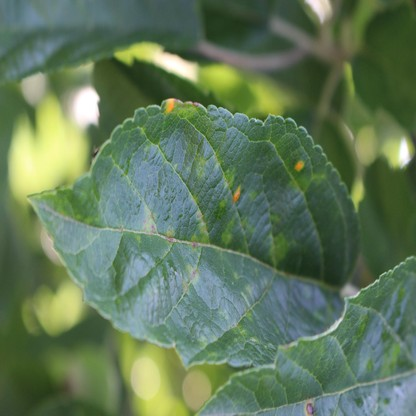rust: (163, 98, 174, 115), (304, 399, 315, 416), (233, 185, 241, 201), (294, 160, 303, 171)
scab: (270, 235, 296, 266), (190, 209, 208, 249), (135, 215, 156, 243), (222, 217, 233, 246), (185, 261, 198, 280), (196, 156, 206, 177), (166, 226, 174, 243), (182, 280, 188, 292)
